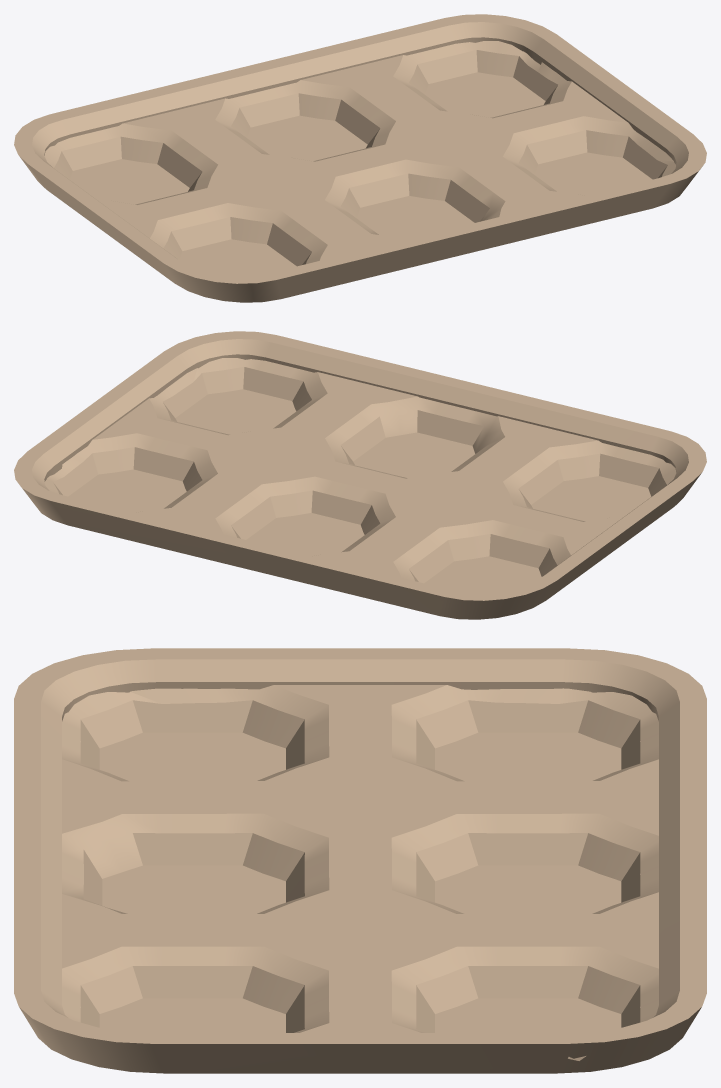
The model's file is SM_Tray_01a.fbx.
The picture shows the model from 3 angles, top to bottom: view 1: azimuth 30°, elevation 25°; view 2: azimuth 150°, elevation 25°; view 3: azimuth 270°, elevation 25°; orthographic projection. The views are drawn at different scales.
Parts seen in each view (by area): view 1: SM_Tray_01a; view 2: SM_Tray_01a; view 3: SM_Tray_01a.
Part boxes in pixels (<box>): SM_Tray_01a: <box>14,14,706,302</box>; SM_Tray_01a: <box>14,331,706,619</box>; SM_Tray_01a: <box>14,648,706,1073</box>.
Size of the model in its own units: 106 by 6.67 by 78.33.
